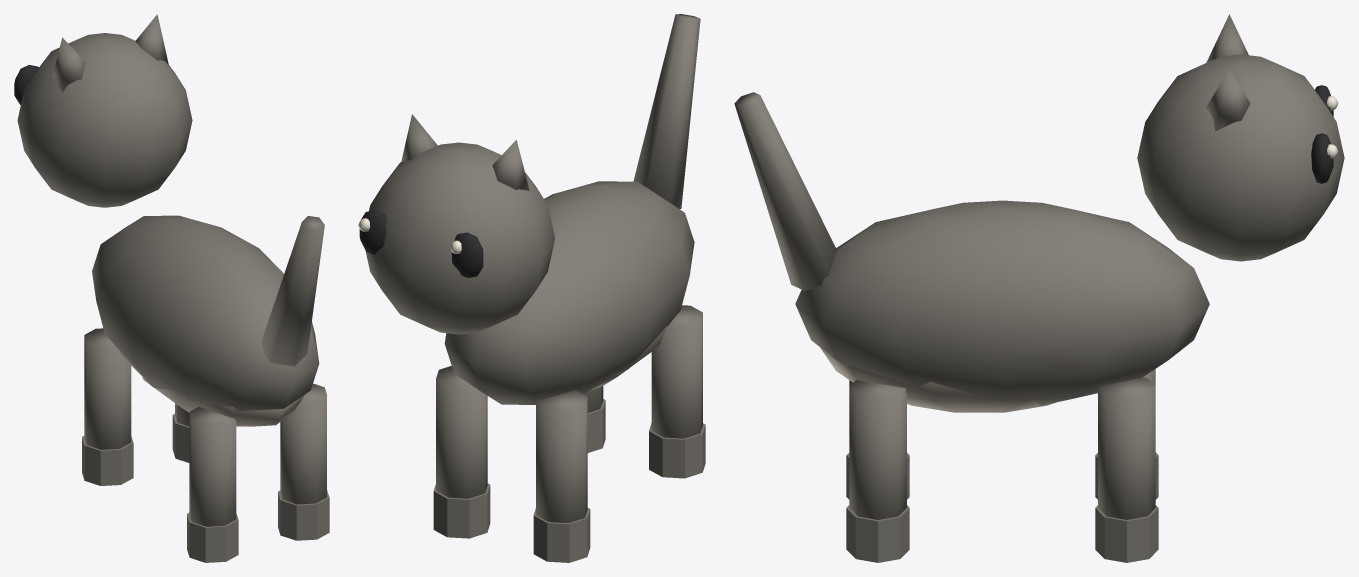
Rendered from cat.fbx.
The picture shows the model from 3 angles, left to right: view 1: azimuth 30°, elevation 25°; view 2: azimuth 150°, elevation 25°; view 3: azimuth 270°, elevation 25°; orthographic projection. The views are drawn at different scales.
Visible parts, largest first — view 1: Body, Head, LegL, ArmL, LegR, ArmR; view 2: Body, Head, ArmL, ArmR, LegL, LegR; view 3: Body, Head, ArmR, LegR.
Boxes of the visible parts, x1=… form: Body: x1=92, y1=215, x2=324, y2=426; Head: x1=14, y1=14, x2=192, y2=207; LegL: x1=187, y1=406, x2=238, y2=562; ArmL: x1=82, y1=328, x2=133, y2=485; LegR: x1=278, y1=383, x2=329, y2=540; ArmR: x1=172, y1=403, x2=189, y2=462; Body: x1=444, y1=14, x2=700, y2=404; Head: x1=358, y1=114, x2=554, y2=334; ArmL: x1=533, y1=390, x2=590, y2=562; ArmR: x1=433, y1=366, x2=490, y2=538; LegL: x1=649, y1=305, x2=705, y2=478; LegR: x1=582, y1=386, x2=605, y2=452; Body: x1=734, y1=92, x2=1209, y2=412; Head: x1=1137, y1=14, x2=1344, y2=261; ArmR: x1=1095, y1=377, x2=1158, y2=562; LegR: x1=846, y1=379, x2=909, y2=562.
Size of the model in its own units: 0.18 by 0.5298 by 0.4616.
